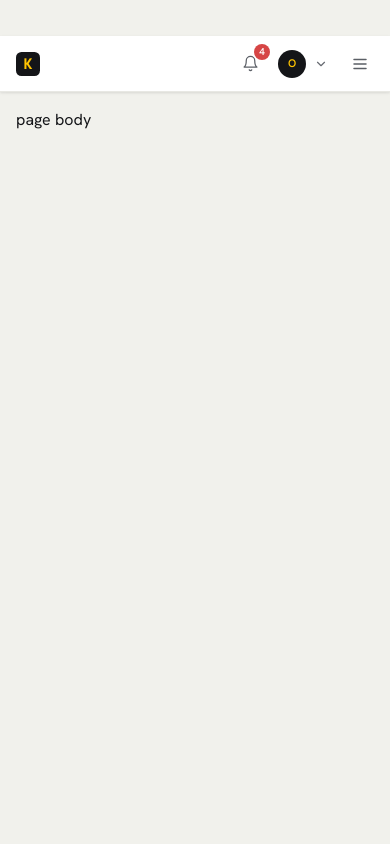
Test case: AppShell nav (H4.7) › the phone menu opens a sheet with every allowed item
Click the button named "Open menu": [360, 64] box [342,46,378,82]
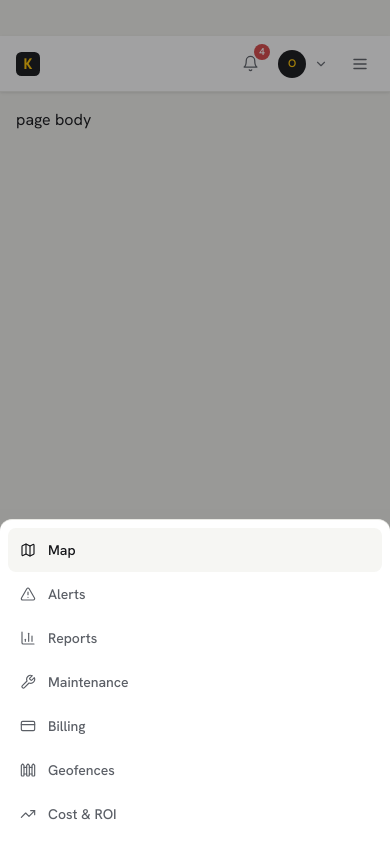
Now the dialog named "Open menu" is shown
Now the dialog named "Open menu" shows "Cost & ROI", box [8,792,382,836]
Now the dialog named "Open menu" shows "Billing", box [8,704,382,748]
